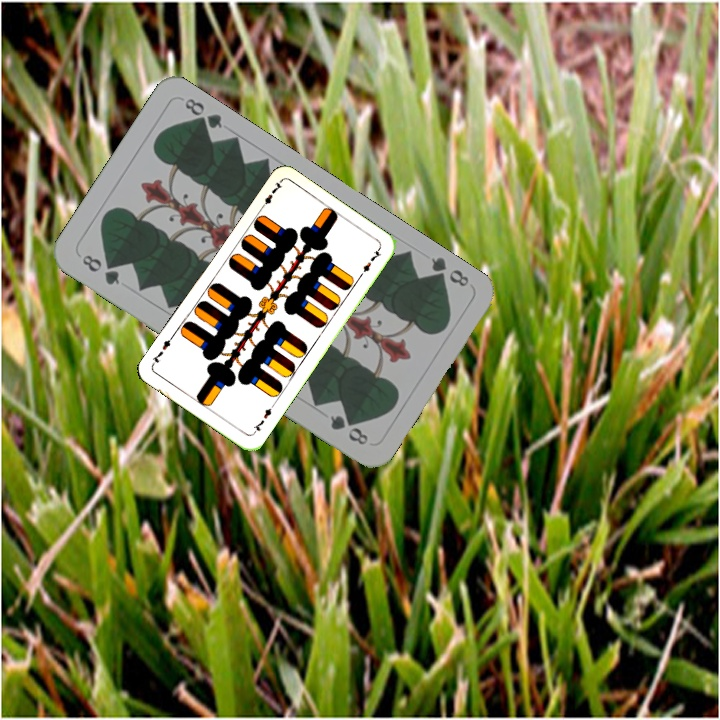E7: (256, 177, 285, 213), (248, 401, 276, 437)
G8: (425, 252, 472, 290), (78, 250, 123, 288)
